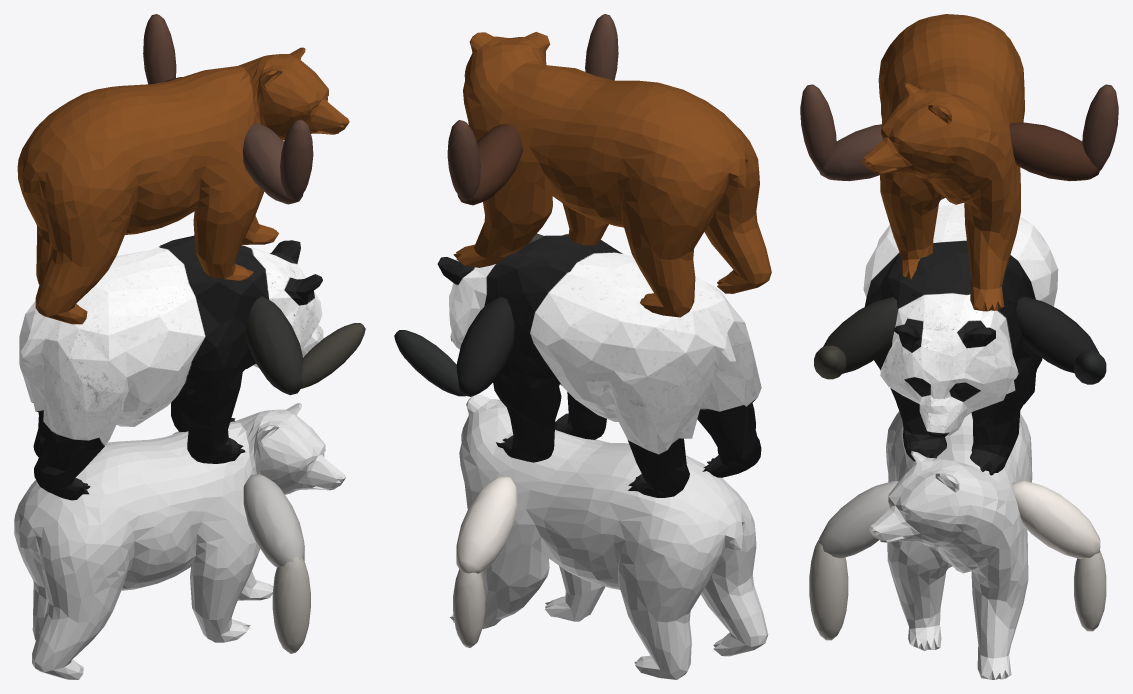
File: bearbear1.glb
3 views of the same model, side by side, from view 1: azimuth 30°, elevation 25°; view 2: azimuth 150°, elevation 25°; view 3: azimuth 270°, elevation 25° (orthographic). The views are drawn at different scales.
Parts seen in each view (by area): view 1: brown_bear1, brown_bear002, panda1, bearArms, foreArms; view 2: brown_bear1, panda1, brown_bear002, bearArms, foreArms; view 3: brown_bear1, panda1, brown_bear002, bearArms, foreArms.
Part boxes in pixels (box(x1,y1,x2,y2)): brown_bear1: box(17, 47, 349, 324); brown_bear002: box(14, 403, 345, 679); panda1: box(19, 235, 323, 500); bearArms: box(164, 77, 304, 567); foreArms: box(143, 14, 365, 653); brown_bear1: box(453, 32, 771, 317); panda1: box(437, 235, 761, 497); brown_bear002: box(450, 394, 768, 679); bearArms: box(456, 124, 522, 573); foreArms: box(394, 14, 618, 647); brown_bear1: box(861, 14, 1024, 311); panda1: box(863, 204, 1058, 475); brown_bear002: box(869, 411, 1032, 679); bearArms: box(818, 122, 1100, 558); foreArms: box(800, 84, 1118, 640).
Bounding box in the file's own units: 2.48 × 4.39 × 2.19.
Materials: 18 (1 with a texture image).
